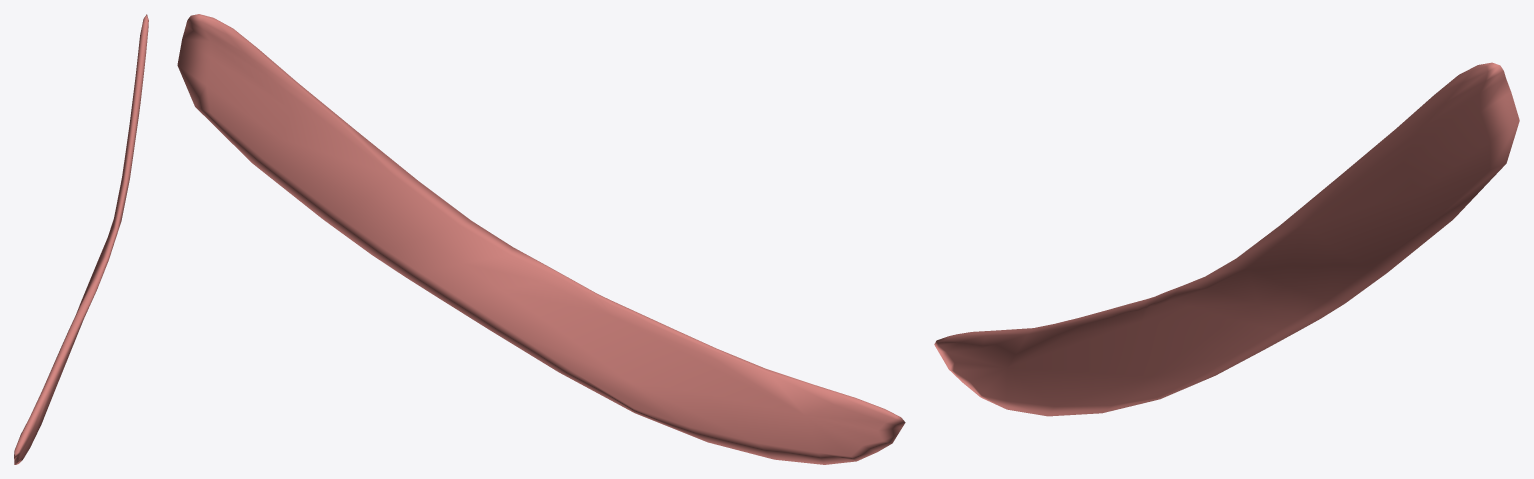
3 views of the same model, side by side, from view 1: azimuth 30°, elevation 25°; view 2: azimuth 150°, elevation 25°; view 3: azimuth 270°, elevation 25° (orthographic). The views are drawn at different scales.
Parts seen in each view (by area): view 1: ZA_594f8748e96ac3b0; view 2: ZA_594f8748e96ac3b0; view 3: ZA_594f8748e96ac3b0.
Boxes of the visible parts, x1=… form: ZA_594f8748e96ac3b0: x1=14, y1=14, x2=148, y2=464; ZA_594f8748e96ac3b0: x1=177, y1=14, x2=905, y2=464; ZA_594f8748e96ac3b0: x1=934, y1=62, x2=1519, y2=416.
Bounding box in the file's own units: 0.0182 × 0.0183 × 0.0166.
